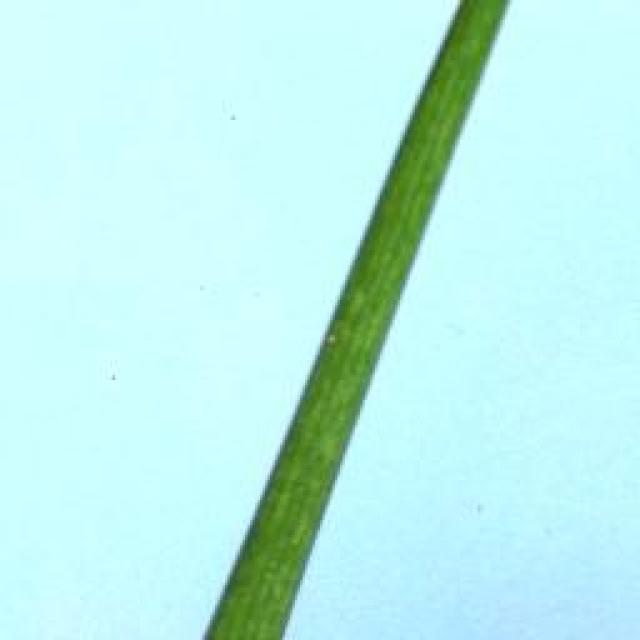Healthy-Plant: (203, 0, 516, 640)
